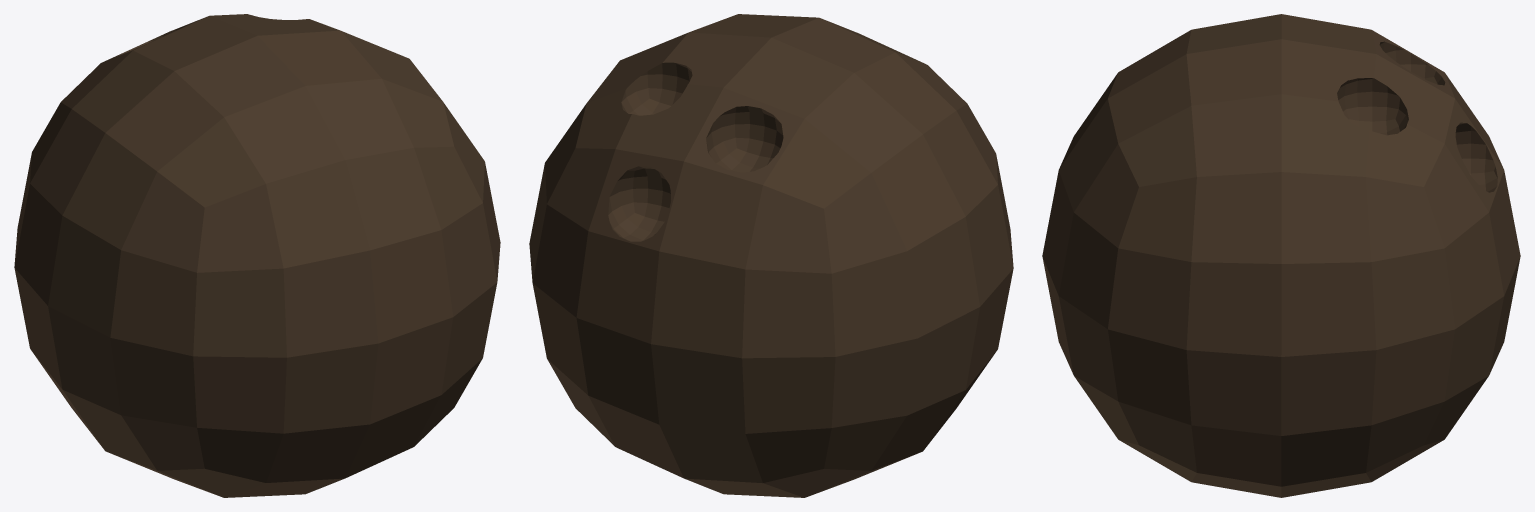
The model's file is tirobonequinho.fbx.
3 renders of one model, left to right at view 1: azimuth 30°, elevation 25°; view 2: azimuth 150°, elevation 25°; view 3: azimuth 270°, elevation 25°, orthographic.
Visible parts, largest first — view 1: Cube; view 2: Cube; view 3: Cube.
Part boxes in pixels (<box>): Cube: <box>14,14,500,497</box>; Cube: <box>529,14,1013,497</box>; Cube: <box>1042,14,1520,497</box>.
Bounding box in the file's own units: 168 × 168 × 168.
